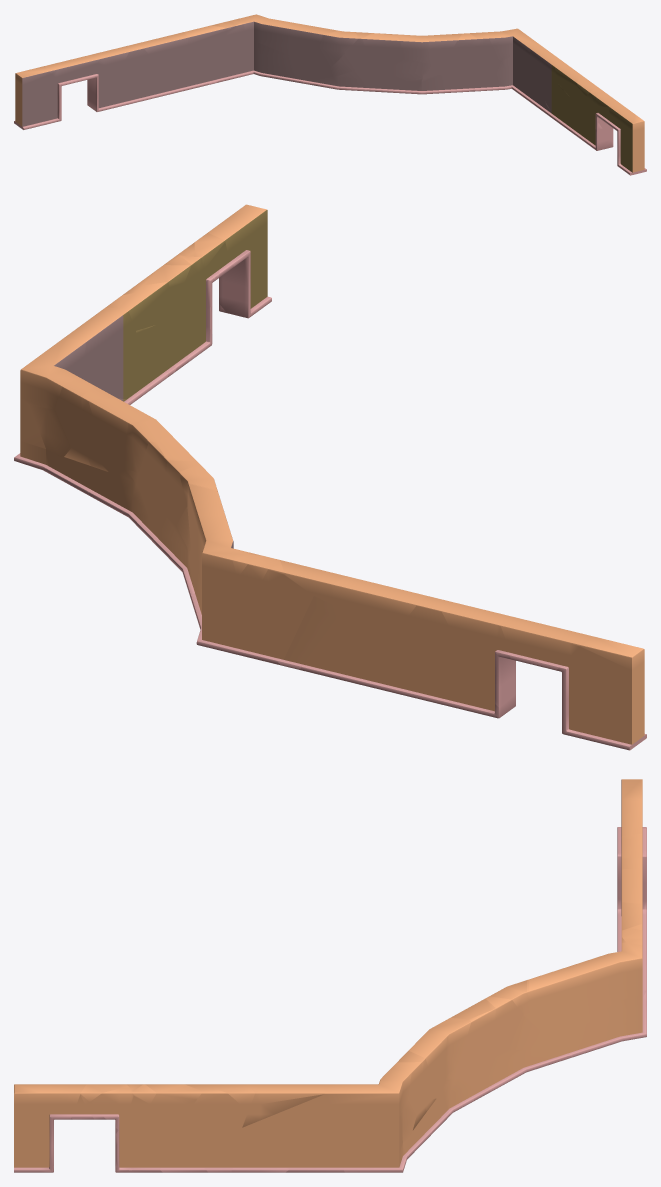
Rendered from InnerWall_4_Fractured.fbx.
3 renders of one model, top to bottom at view 1: azimuth 30°, elevation 25°; view 2: azimuth 150°, elevation 25°; view 3: azimuth 270°, elevation 25°, orthographic. The views are drawn at different scales.
Visible parts, largest first — view 1: polySurface302, polySurface325, polySurface286, polySurface306, polySurface310, polySurface304, polySurface321, polySurface327, polySurface347, polySurface320, polySurface292, polySurface287 (+27 smaller); view 2: polySurface302, polySurface325, polySurface286, polySurface310, polySurface304, polySurface287, polySurface346, polySurface347, polySurface301, polySurface326, polySurface303, polySurface306 (+22 smaller); view 3: polySurface313, polySurface325, polySurface274, polySurface306, polySurface321, polySurface326, polySurface311, polySurface310, polySurface271, polySurface281, polySurface295, polySurface327 (+18 smaller).
Boxes of the visible parts, x1,y1,x2,y2 form: polySurface302: [14, 66, 62, 129]; polySurface325: [608, 105, 646, 175]; polySurface286: [152, 55, 208, 98]; polySurface306: [239, 14, 297, 56]; polySurface310: [529, 46, 564, 119]; polySurface304: [87, 47, 128, 104]; polySurface321: [292, 23, 337, 80]; polySurface327: [225, 39, 297, 71]; polySurface347: [87, 75, 153, 111]; polySurface320: [308, 31, 358, 84]; polySurface292: [186, 34, 225, 84]; polySurface287: [109, 43, 157, 90]; polySurface302: [556, 637, 646, 750]; polySurface325: [208, 204, 271, 318]; polySurface286: [300, 619, 397, 692]; polySurface310: [65, 307, 138, 404]; polySurface304: [441, 602, 515, 707]; polySurface287: [390, 596, 478, 682]; polySurface346: [332, 576, 426, 638]; polySurface347: [395, 654, 515, 718]; polySurface301: [254, 575, 313, 669]; polySurface326: [20, 337, 85, 409]; polySurface303: [500, 615, 594, 670]; polySurface306: [198, 515, 249, 594]; polySurface313: [231, 1094, 329, 1172]; polySurface325: [14, 1084, 86, 1172]; polySurface274: [329, 1104, 408, 1172]; polySurface306: [569, 942, 642, 1023]; polySurface321: [528, 966, 581, 1055]; polySurface326: [323, 1069, 411, 1117]; polySurface311: [485, 996, 569, 1055]; polySurface310: [242, 1084, 324, 1127]; polySurface271: [185, 1090, 248, 1136]; polySurface281: [485, 1049, 571, 1091]; polySurface295: [115, 1117, 164, 1167]; polySurface327: [576, 993, 642, 1037].
Bounding box in the file's own units: 35.21 × 4.06 × 29.81.
